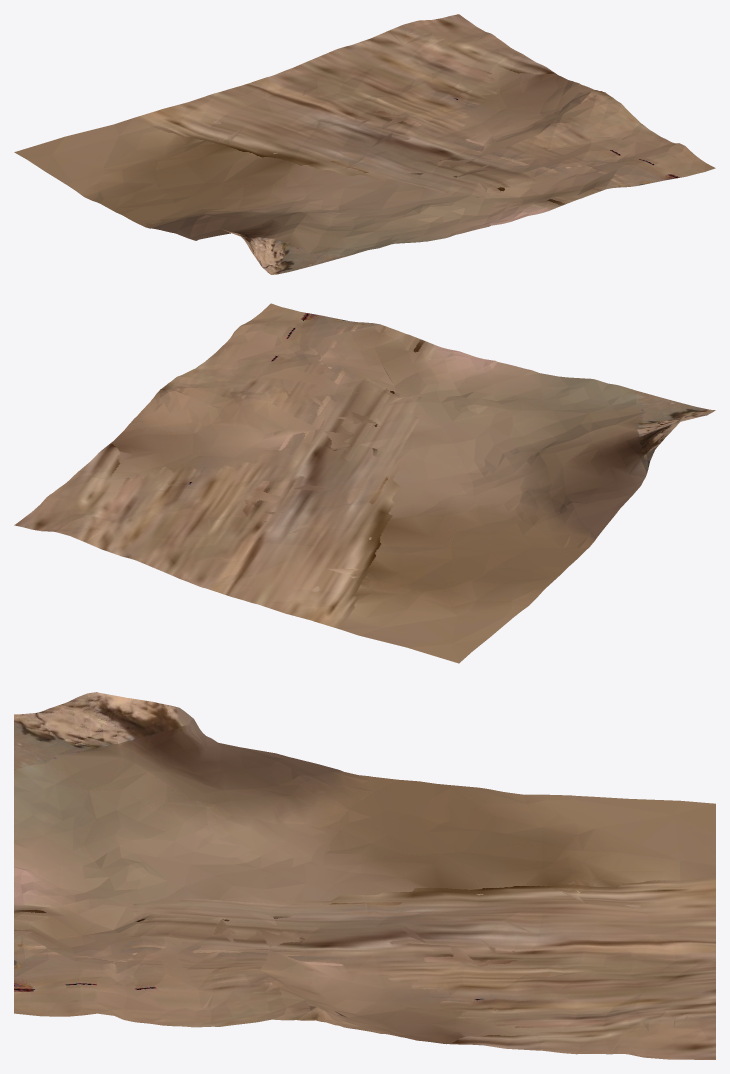
3 renders of one model, top to bottom at view 1: azimuth 30°, elevation 25°; view 2: azimuth 150°, elevation 25°; view 3: azimuth 270°, elevation 25°, orthographic. The views are drawn at different scales.
Bounding box in the file's own units: 1.04 × 0.1832 × 1.04.
2 materials, 2 textured.
